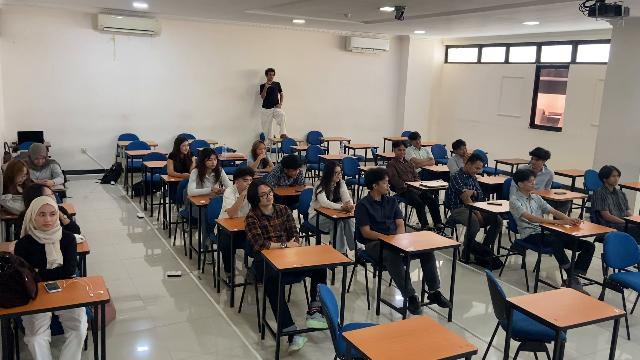senang: (36, 209, 57, 229), (260, 188, 274, 204), (380, 178, 390, 194), (530, 156, 542, 167), (472, 163, 482, 176), (289, 167, 300, 178), (334, 167, 342, 182), (610, 173, 619, 186), (527, 178, 536, 190), (208, 157, 217, 168), (397, 147, 406, 158), (181, 144, 190, 154), (459, 146, 468, 155), (256, 146, 266, 154), (413, 137, 421, 146)
